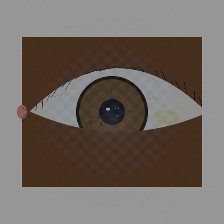pinguecula_lesion: (141, 97, 192, 138)
